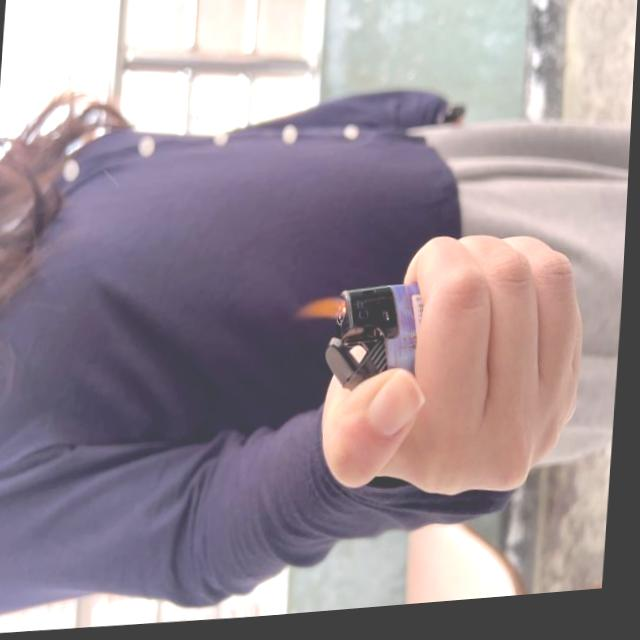Fire: (295, 299, 352, 329)
